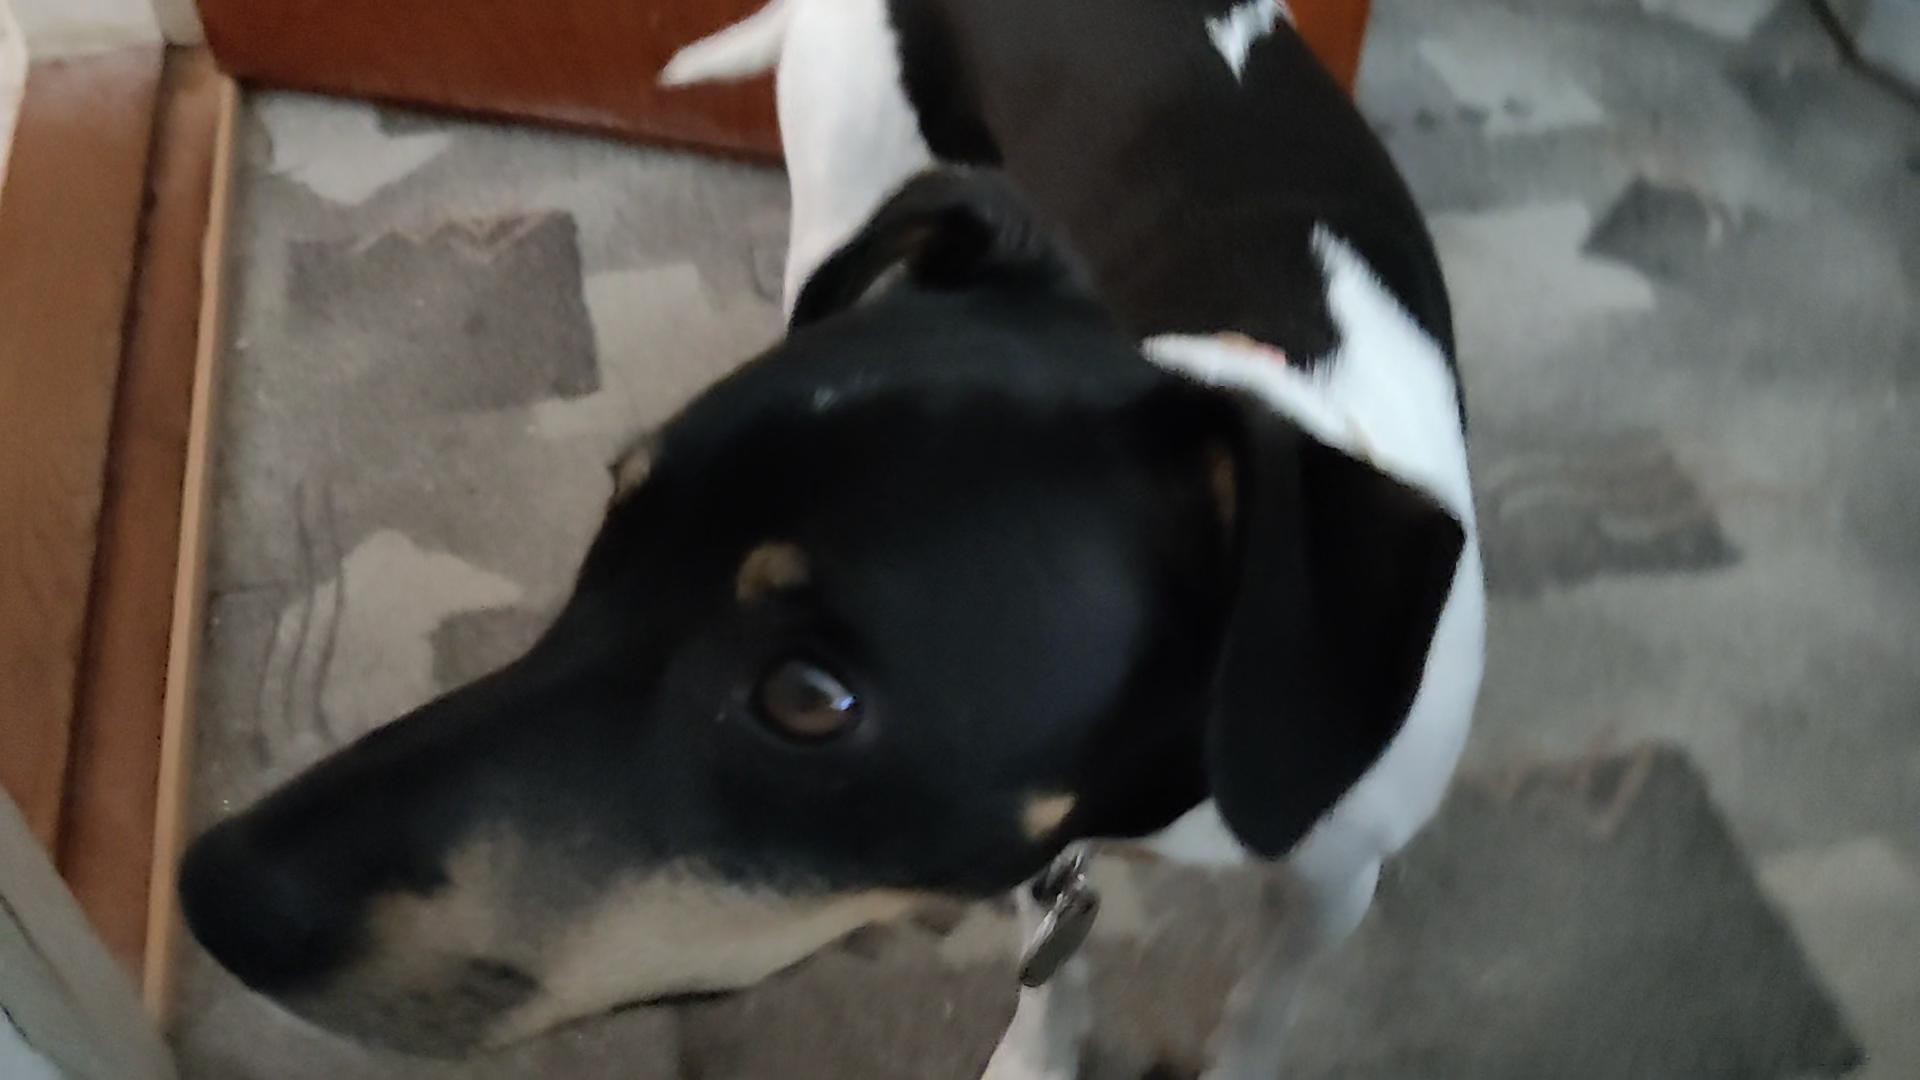Dog: (169, 0, 1495, 1079)
